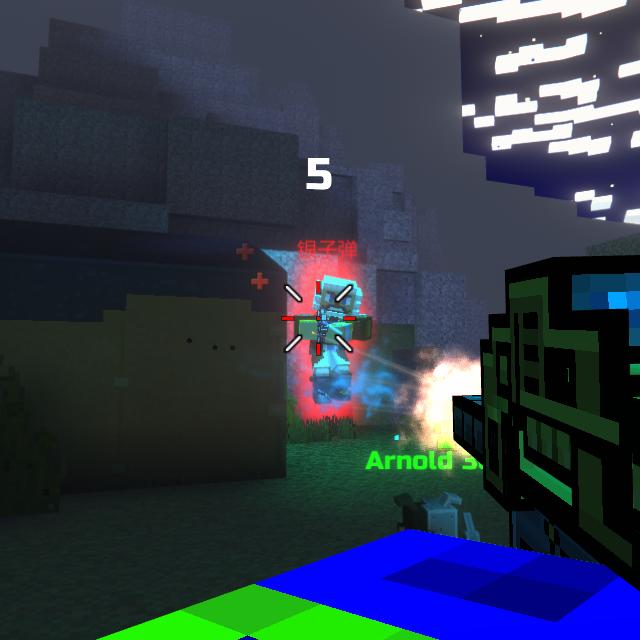Enemy: (295, 278, 374, 409)
